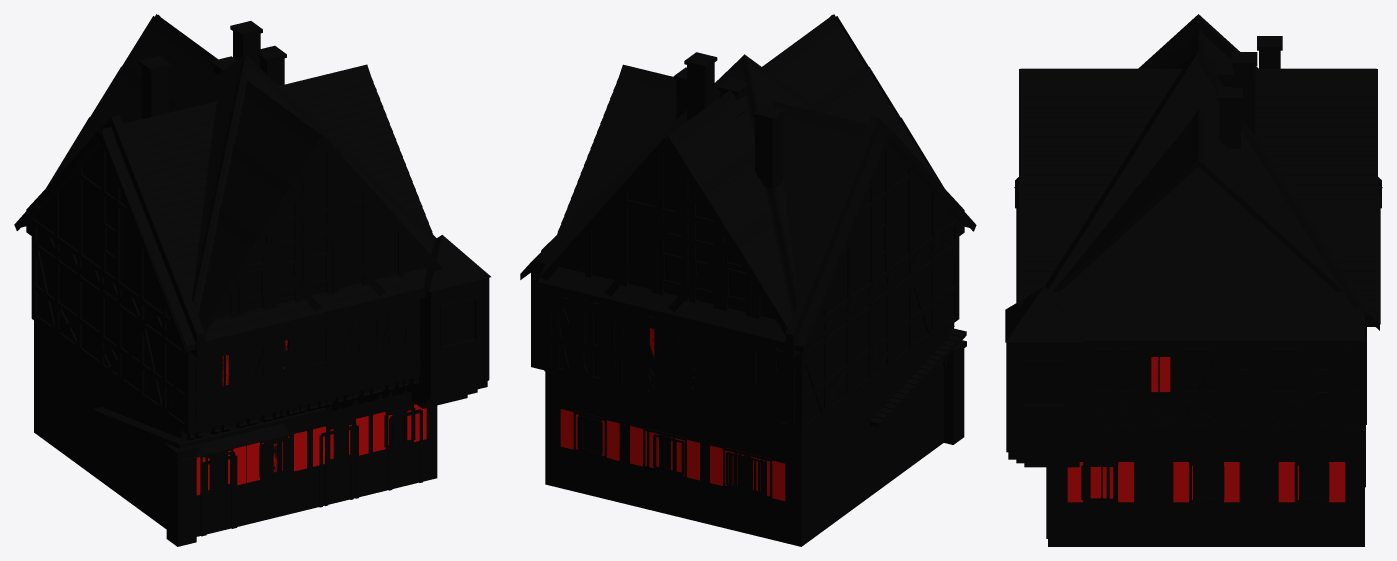
The model's file is zeile_mensch_s2.glb.
The picture shows the model from 3 angles, left to right: view 1: azimuth 30°, elevation 25°; view 2: azimuth 150°, elevation 25°; view 3: azimuth 270°, elevation 25°; orthographic projection. The views are drawn at different scales.
Parts seen in each view (by area): view 1: eck, k_g8, kappe_offen, k_g6, k_t6, k_t8, kappe_brand, k_g4, hinterhaus, eck_a, eck_b, pfeiler (+9 smaller); view 2: eck, k_g8, k_g6, kappe_offen, k_t8, k_t6, k_g4, kappe_brand, k_g8_a, hinterhaus, k_g8_b, k_g6_a (+7 smaller); view 3: eck, k_g8, eck_a, k_t8, eck_b, k_t6, kappe_brand.
Boxes of the visible parts, box(x1,y1,x2,y2) form: eck: box(34, 54, 490, 536); k_g8: box(61, 14, 443, 535); kappe_offen: box(14, 127, 195, 433); k_g6: box(50, 65, 385, 524); k_t6: box(123, 56, 387, 536); k_t8: box(123, 45, 432, 480); kappe_brand: box(26, 115, 204, 422); k_g4: box(48, 115, 321, 536); hinterhaus: box(92, 407, 326, 536); eck_a: box(195, 233, 437, 495); eck_b: box(195, 303, 435, 490); pfeiler: box(164, 443, 199, 546); eck: box(520, 54, 960, 546); k_g8: box(540, 14, 935, 543); k_g6: box(604, 65, 941, 544); kappe_offen: box(794, 127, 976, 433); k_t8: box(538, 64, 866, 505); k_t6: box(602, 78, 867, 546); k_g4: box(668, 115, 940, 543); kappe_brand: box(785, 115, 964, 422); k_g8_a: box(553, 139, 792, 502); hinterhaus: box(869, 328, 966, 492); k_g8_b: box(549, 15, 832, 499); k_g6_a: box(607, 191, 792, 502); eck: box(1005, 36, 1364, 546); k_g8: box(1019, 52, 1377, 441); eck_a: box(1009, 145, 1364, 503); k_t8: box(1016, 29, 1380, 487); eck_b: box(1048, 274, 1364, 501); k_t6: box(1016, 28, 1380, 428); kappe_brand: box(1015, 14, 1381, 208).
Bounding box in the file's own units: 9.44 × 12.19 × 9.53.
